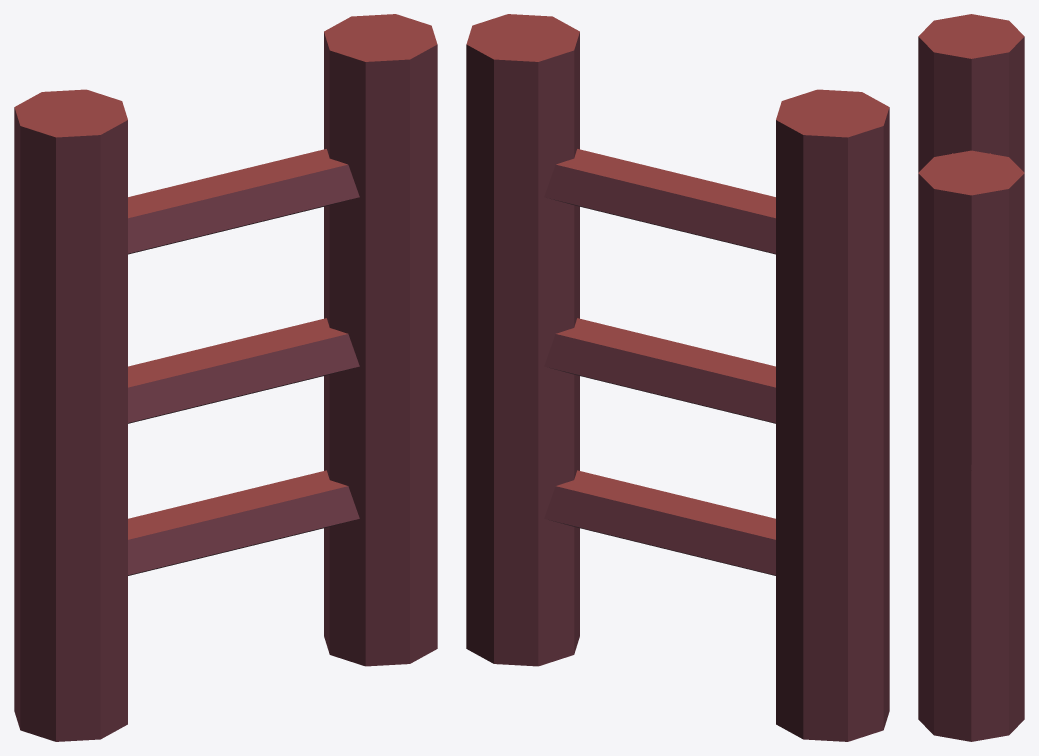
The model's file is ladder.fbx.
3 views of the same model, side by side, from view 1: azimuth 30°, elevation 25°; view 2: azimuth 150°, elevation 25°; view 3: azimuth 270°, elevation 25° (orthographic). The views are drawn at different scales.
Visible parts, largest first — view 1: ladder; view 2: ladder; view 3: ladder.
Part boxes in pixels (left/top/right/bottom): ladder: left=14, top=14, right=437, bottom=741; ladder: left=466, top=14, right=889, bottom=741; ladder: left=918, top=14, right=1024, bottom=741.
Bounding box in the file's own units: 93.11 × 131 × 23.06.
1 material, 1 textured.
